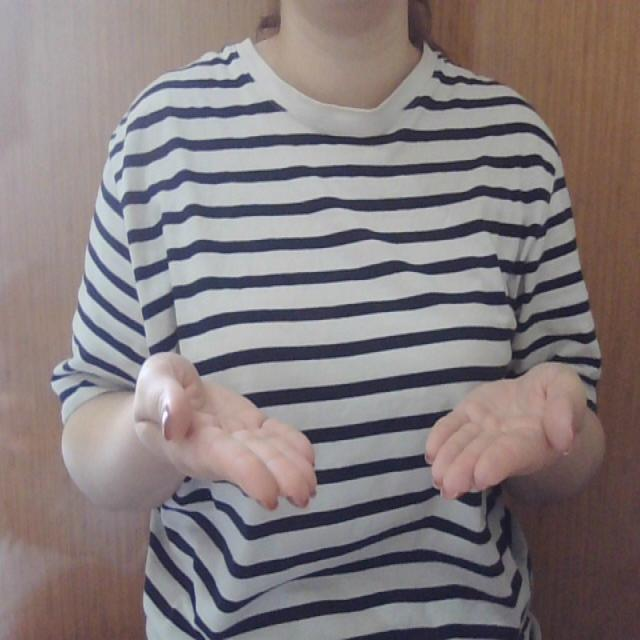Evet: (132, 349, 592, 516)
